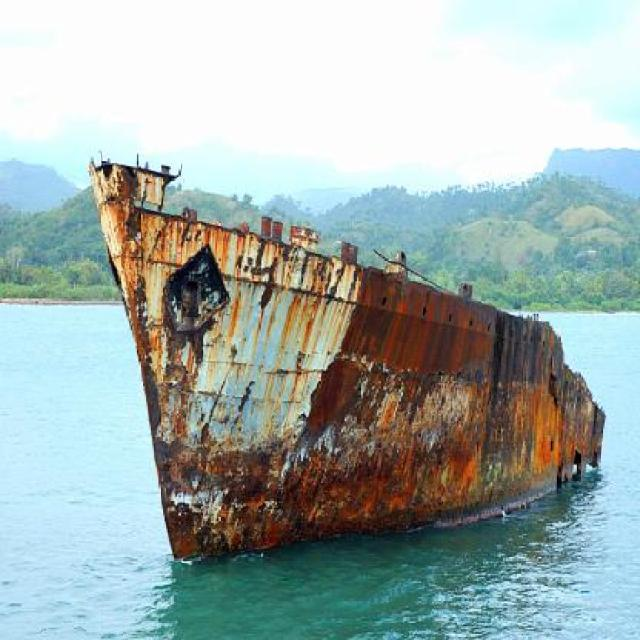corrosion: (92, 156, 606, 550)
